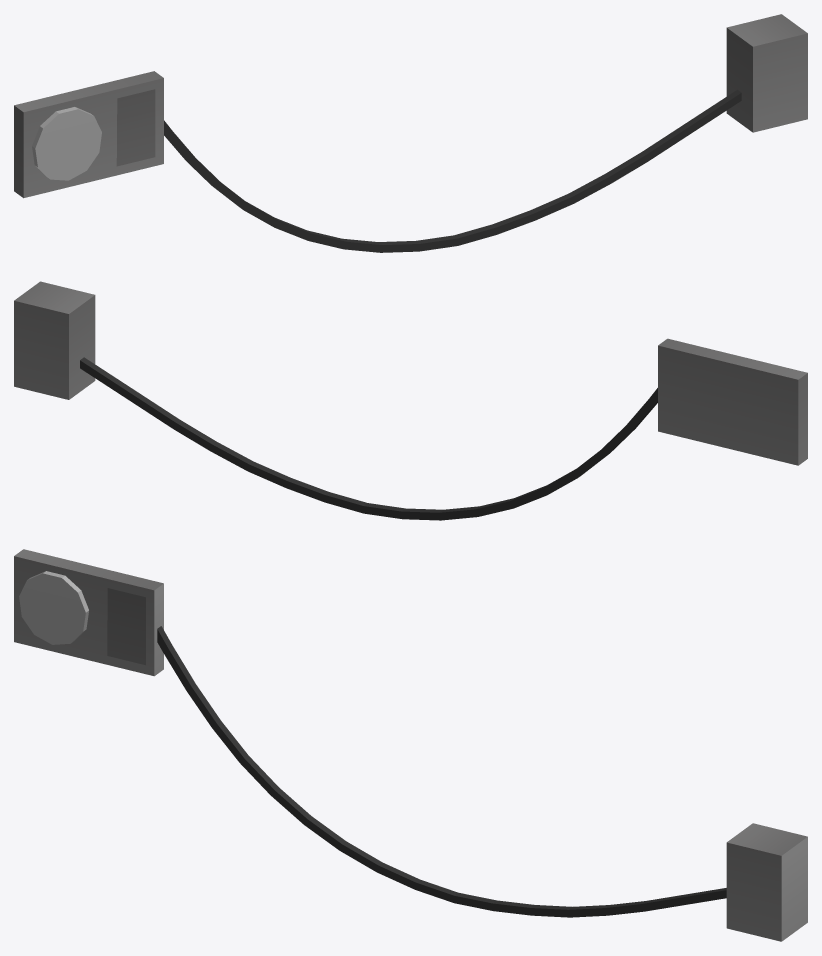
Rendered from B02_cable_murale.fbx.
3 views of the same model, one above another, from view 1: azimuth 30°, elevation 25°; view 2: azimuth 150°, elevation 25°; view 3: azimuth 330°, elevation 25° (orthographic).
Visible parts, largest first — view 1: B02_cable_murale; view 2: B02_cable_murale; view 3: B02_cable_murale.
Part boxes in pixels (x1,y1,x2,y2): B02_cable_murale: [14, 14, 807, 252]; B02_cable_murale: [14, 281, 807, 520]; B02_cable_murale: [14, 549, 807, 941].
Bounding box in the file's own units: 868 × 259 × 51.02.
